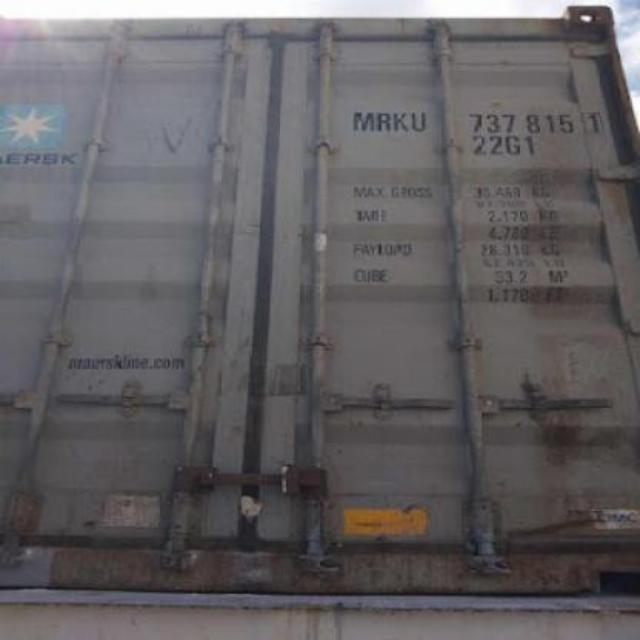1: (542, 112, 558, 136), (584, 112, 602, 132)
3: (484, 112, 502, 134)
5: (558, 112, 576, 132)
7: (464, 111, 484, 132), (500, 111, 518, 132)
8: (524, 112, 542, 134)
K: (390, 111, 410, 132)
M: (352, 111, 376, 132)
R: (374, 111, 392, 132)
U: (410, 111, 428, 132)
